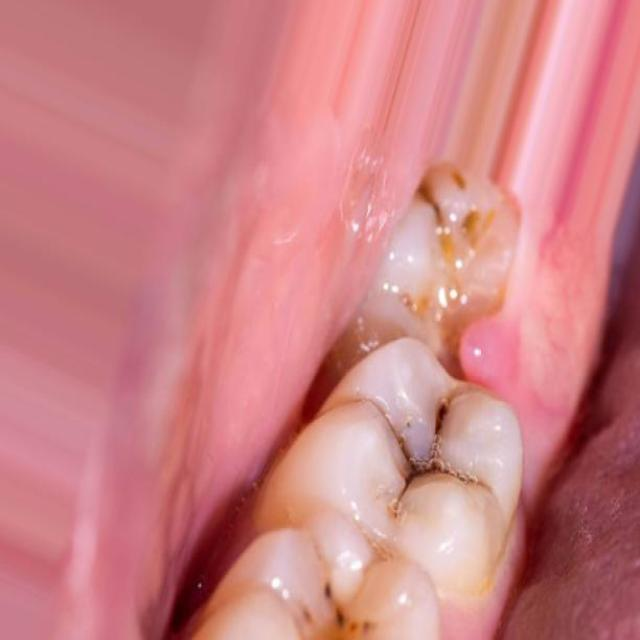caries: (387, 168, 507, 350), (360, 355, 491, 521), (282, 550, 390, 640)
